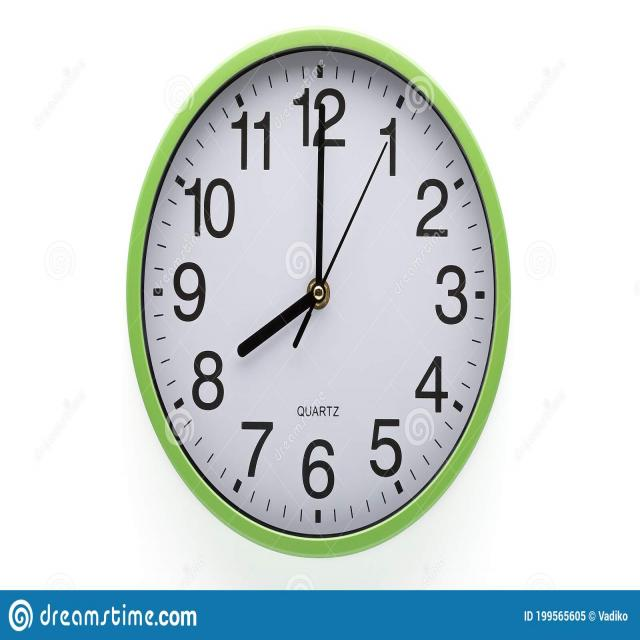clock: (95, 11, 542, 533)
